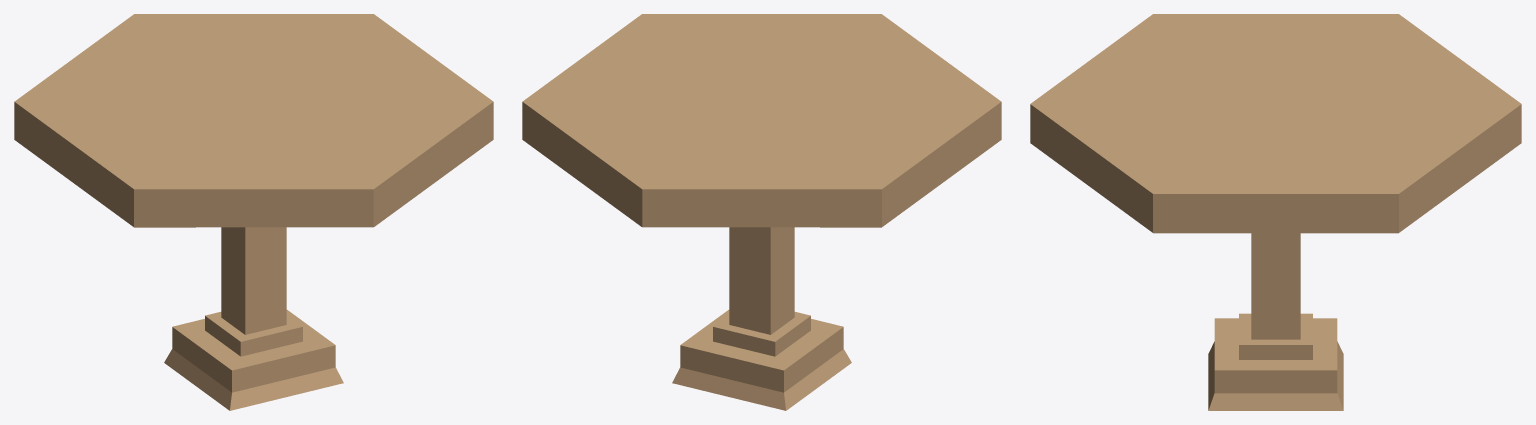
Rendered from table-dining-round.glb.
The picture shows the model from 3 angles, left to right: view 1: azimuth 30°, elevation 25°; view 2: azimuth 150°, elevation 25°; view 3: azimuth 270°, elevation 25°; orthographic projection. The views are drawn at different scales.
Visible parts, largest first — view 1: table-dining-round; view 2: table-dining-round; view 3: table-dining-round.
Part boxes in pixels (left/top/right/bottom): table-dining-round: left=14, top=14, right=493, bottom=410; table-dining-round: left=522, top=14, right=1001, bottom=410; table-dining-round: left=1030, top=14, right=1521, bottom=410.
Size of the model in its own units: 1.04 by 0.75 by 1.2.
